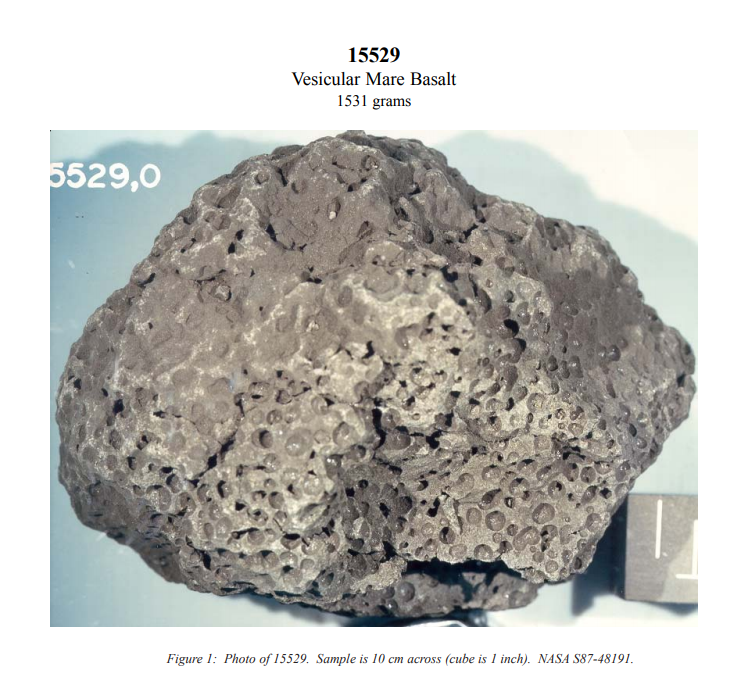Basalt: (52, 188, 695, 619)
